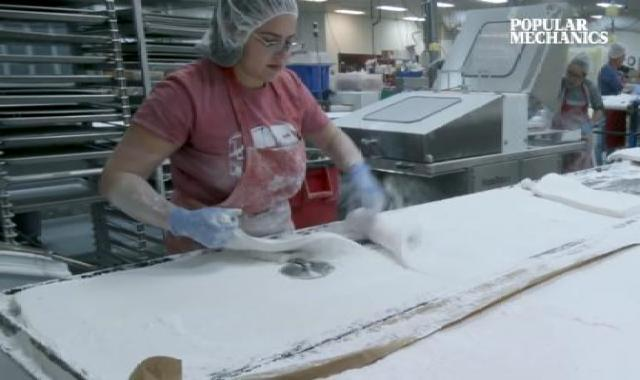hairnet: (193, 1, 308, 65)
